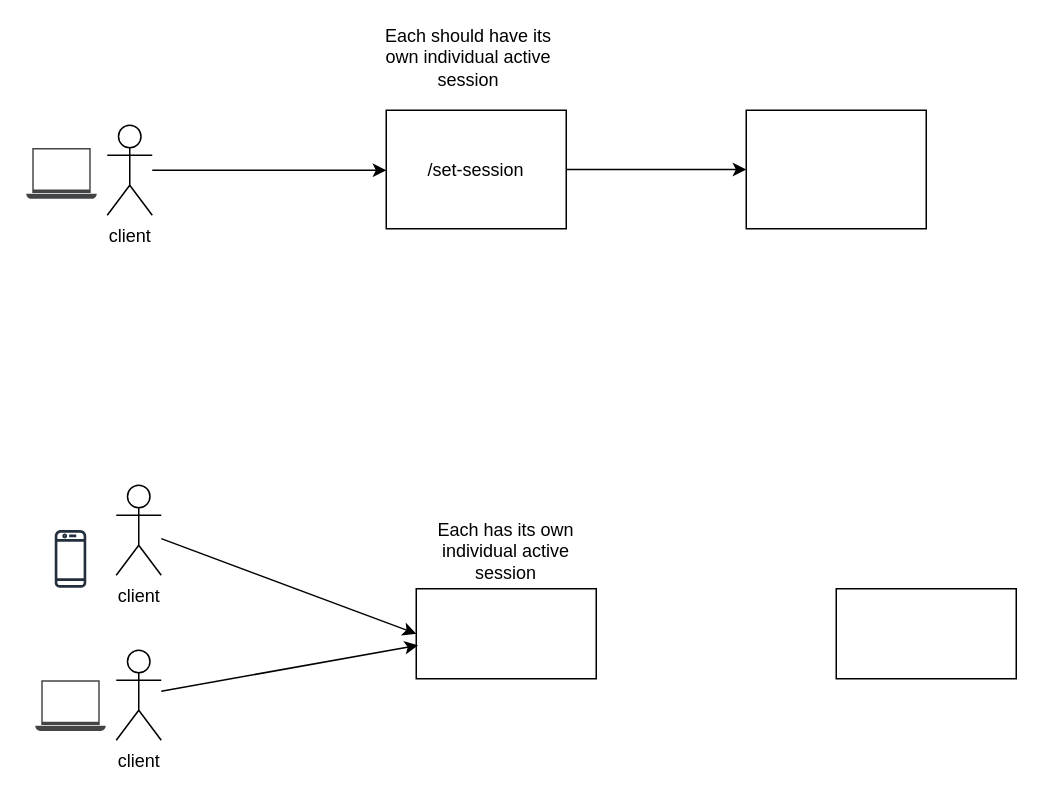
This 1043x798 diagram has some shape labels left out. The shapes that lost their labels are listed below. From the top down, each one's centre as x and y in pixels, then its label:
At (835,169): "generate socket specific token".
At (505,633): "Request for opening socket connection".
